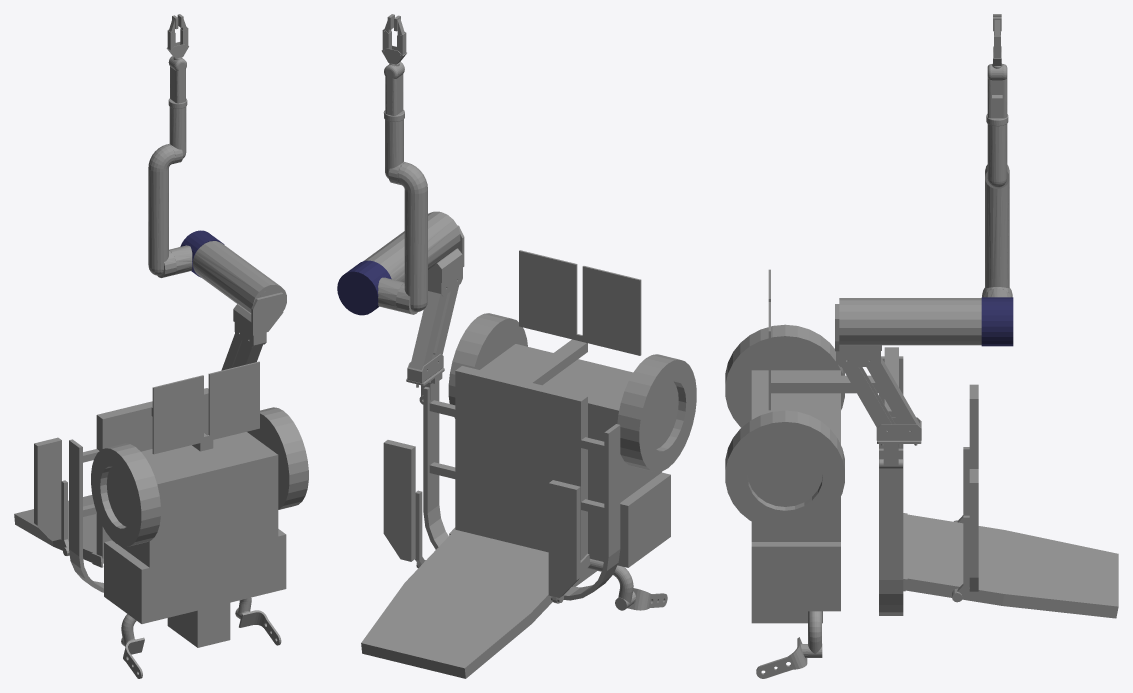
Rendered from cmu-permma.dae.
3 views of the same model, side by side, from view 1: azimuth 30°, elevation 25°; view 2: azimuth 150°, elevation 25°; view 3: azimuth 270°, elevation 25° (orthographic). The views are drawn at different scales.
Parts seen in each view (by area): view 1: base (×3), left-arm1 (×2), left-arm2, l-lift-arm, left-arm3, left-arm4; view 2: base (×3), left-arm1 (×2), l-lift-arm, left-arm2, left-arm3, left-arm4; view 3: base (×3), left-arm1 (×2), l-lift-arm, left-arm2, left-arm3, left-arm4.
Boxes of the visible parts, bbox=[...] form: base (×3): bbox=[14, 361, 308, 678]; left-arm1 (×2): bbox=[169, 230, 286, 313]; left-arm2: bbox=[148, 144, 176, 277]; l-lift-arm: bbox=[221, 288, 283, 370]; left-arm3: bbox=[168, 107, 186, 163]; left-arm4: bbox=[168, 56, 187, 108]; base (×3): bbox=[361, 250, 696, 678]; left-arm1 (×2): bbox=[337, 211, 460, 315]; l-lift-arm: bbox=[406, 225, 464, 404]; left-arm2: bbox=[395, 162, 427, 314]; left-arm3: bbox=[385, 119, 405, 184]; left-arm4: bbox=[383, 62, 404, 121]; base (×3): bbox=[725, 269, 1118, 678]; left-arm1 (×2): bbox=[839, 288, 1013, 346]; l-lift-arm: bbox=[835, 304, 921, 468]; left-arm2: bbox=[982, 164, 1012, 297]; left-arm3: bbox=[985, 124, 1009, 188]; left-arm4: bbox=[986, 64, 1008, 126].
Bounding box in the file's own units: 0.7638 × 1.12 × 2.08.
